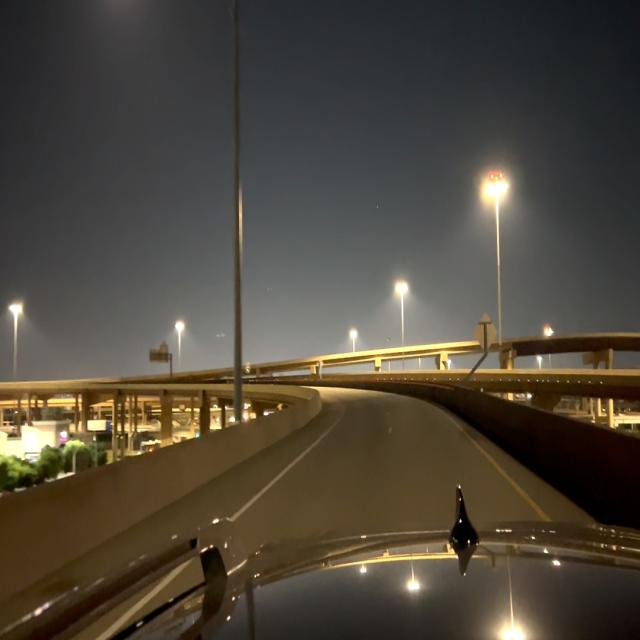back-of-sign: (475, 313, 497, 355)
